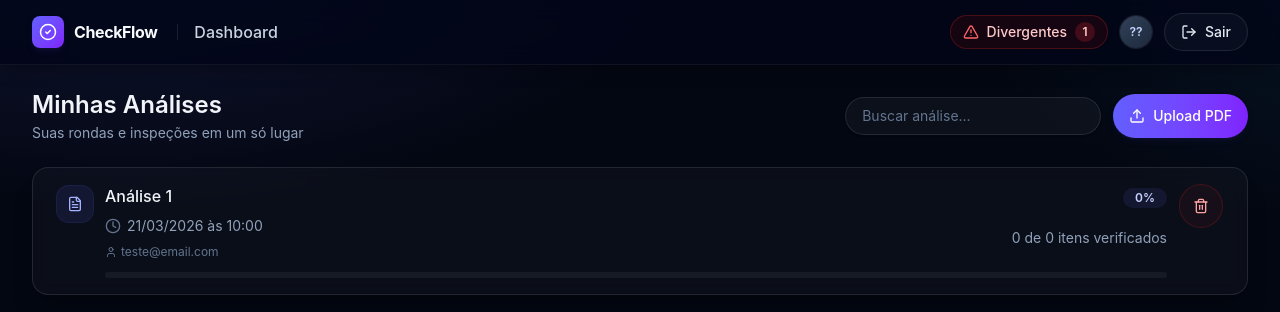
Test: DashboardPage › aplica debounce e complementa busca local com resultado remoto quando online
Type "re" into the field with placeholder "Buscar análise..." at (973, 116), box [845,97,1101,135]
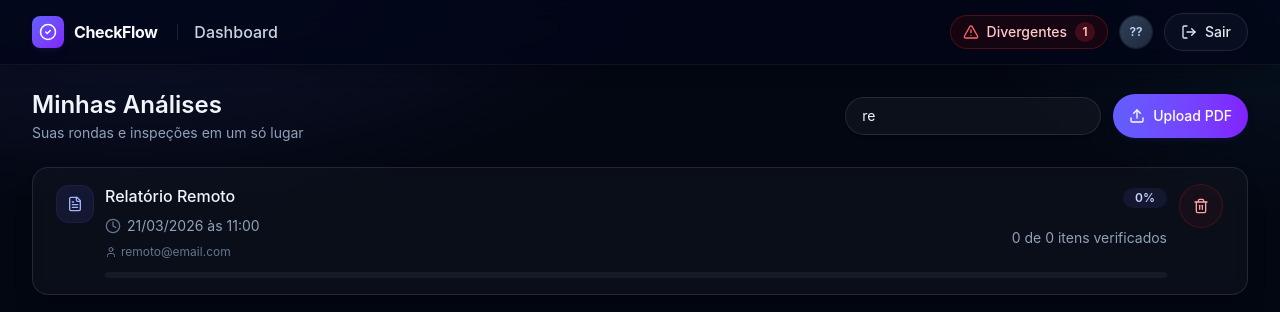
Check: the text "Relatório Remoto" is shown, box [105,184,235,208]
